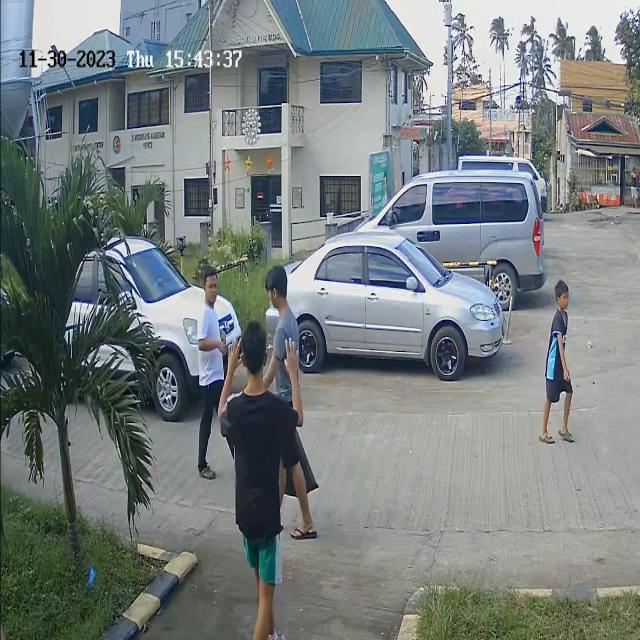person: (242, 269, 303, 400), (547, 280, 576, 401), (191, 262, 223, 354)
